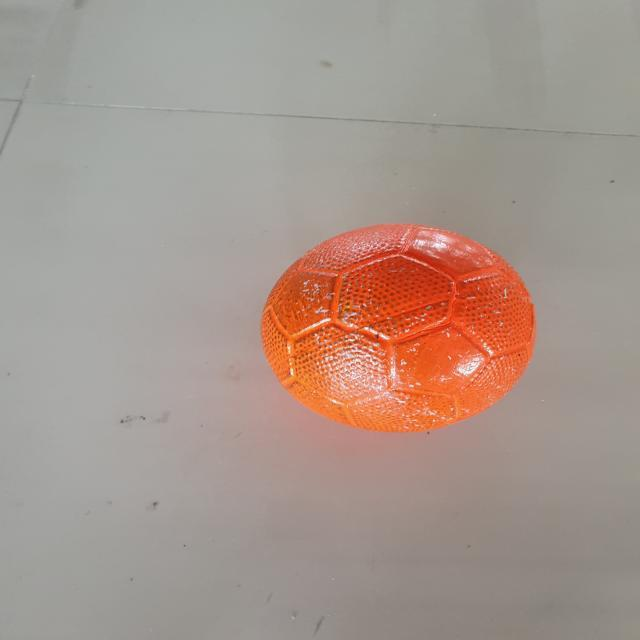bola: (250, 212, 550, 442)
